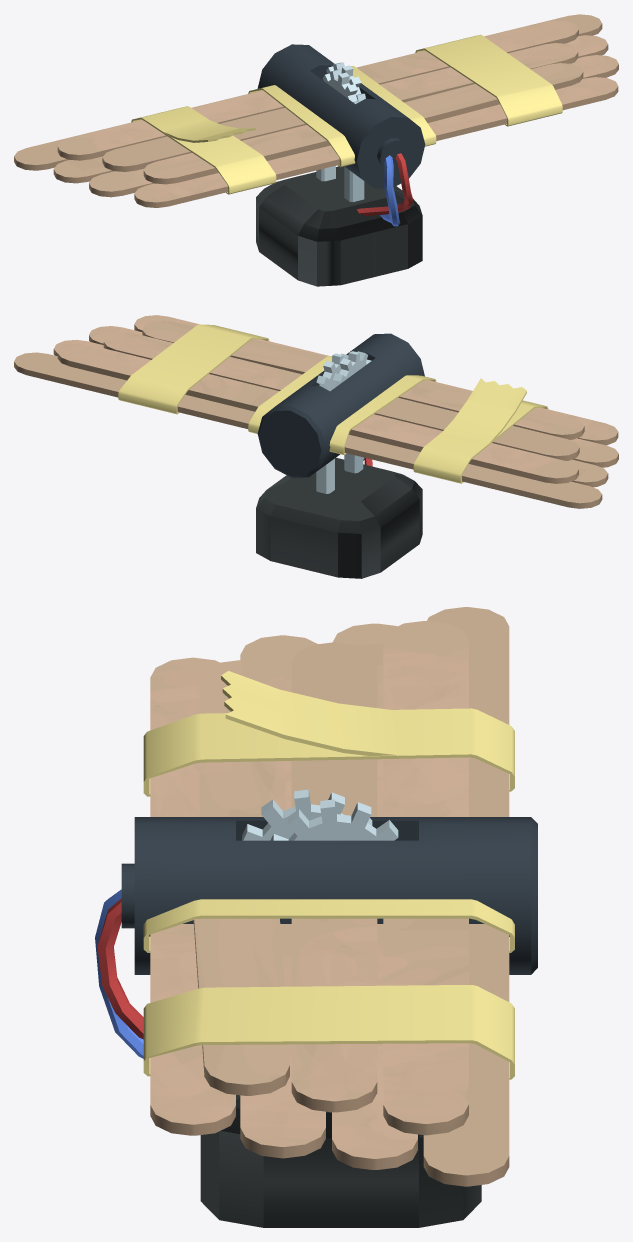
Rendered from wings.fbx.
The picture shows the model from 3 angles, top to bottom: view 1: azimuth 30°, elevation 25°; view 2: azimuth 150°, elevation 25°; view 3: azimuth 270°, elevation 25°; orthographic projection. The views are drawn at different scales.
Parts seen in each view (by area): view 1: wing_2, wing_1, wings_base, wings_body, cog_2, cog_1; view 2: wing_2, wing_1, wings_base, wings_body, cog_2, cog_1; view 3: wing_1, wing_2, wings_body, wings_base, cog_1, cog_2.
Part boxes in pixels (box(x1,y1,x2,y2)): wing_2: box(14, 85, 355, 207); wing_1: box(351, 14, 618, 146); wings_base: box(256, 166, 422, 286); wings_body: box(257, 44, 425, 226); cog_2: box(322, 69, 360, 103); cog_1: box(326, 62, 365, 100); wing_2: box(329, 375, 618, 508); wing_1: box(14, 315, 332, 433); wings_base: box(256, 457, 422, 578); wings_body: box(257, 333, 424, 493); cog_2: box(333, 351, 371, 387); cog_1: box(316, 353, 348, 391); wing_1: box(143, 899, 514, 1186); wing_2: box(143, 607, 514, 816); wings_body: box(95, 817, 537, 1058); wings_base: box(200, 1095, 481, 1227); cog_1: box(270, 799, 398, 840); cog_2: box(242, 789, 372, 840).
Bounding box in the file's own units: 239 × 72.7 × 78.85.
